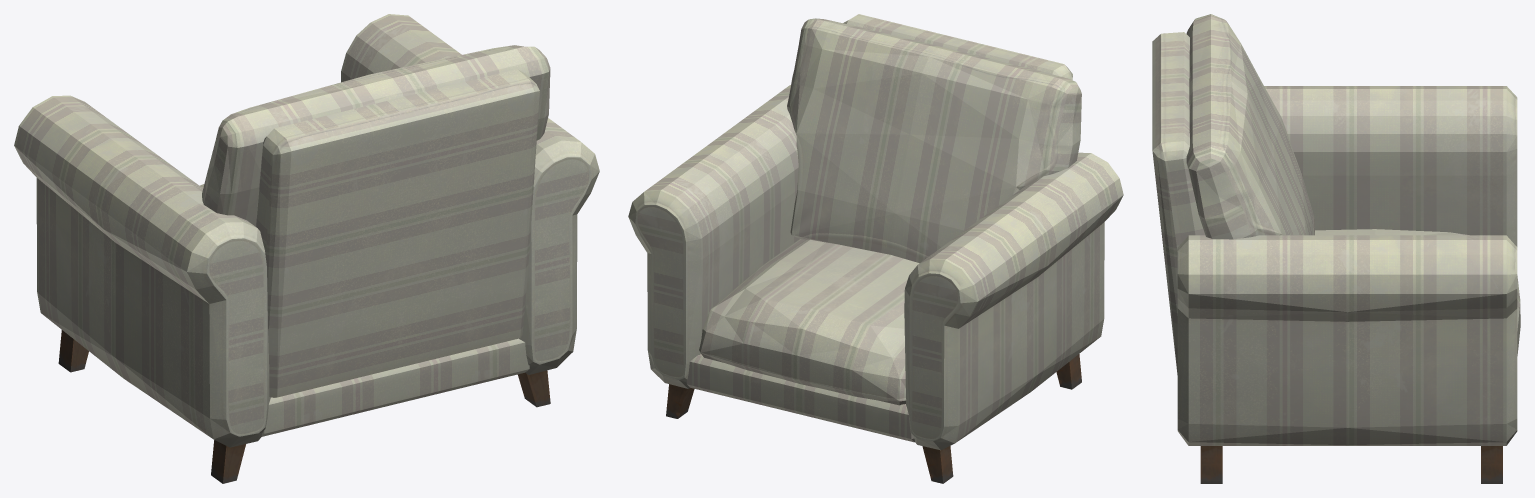
File: P_Sofa_015_S1_M01.obj
3 renders of one model, left to right at view 1: azimuth 30°, elevation 25°; view 2: azimuth 150°, elevation 25°; view 3: azimuth 270°, elevation 25°, orthographic. The views are drawn at different scales.
Bounding box in the file's own units: 1.2 × 0.9945 × 1.
1 material, 1 textured.
